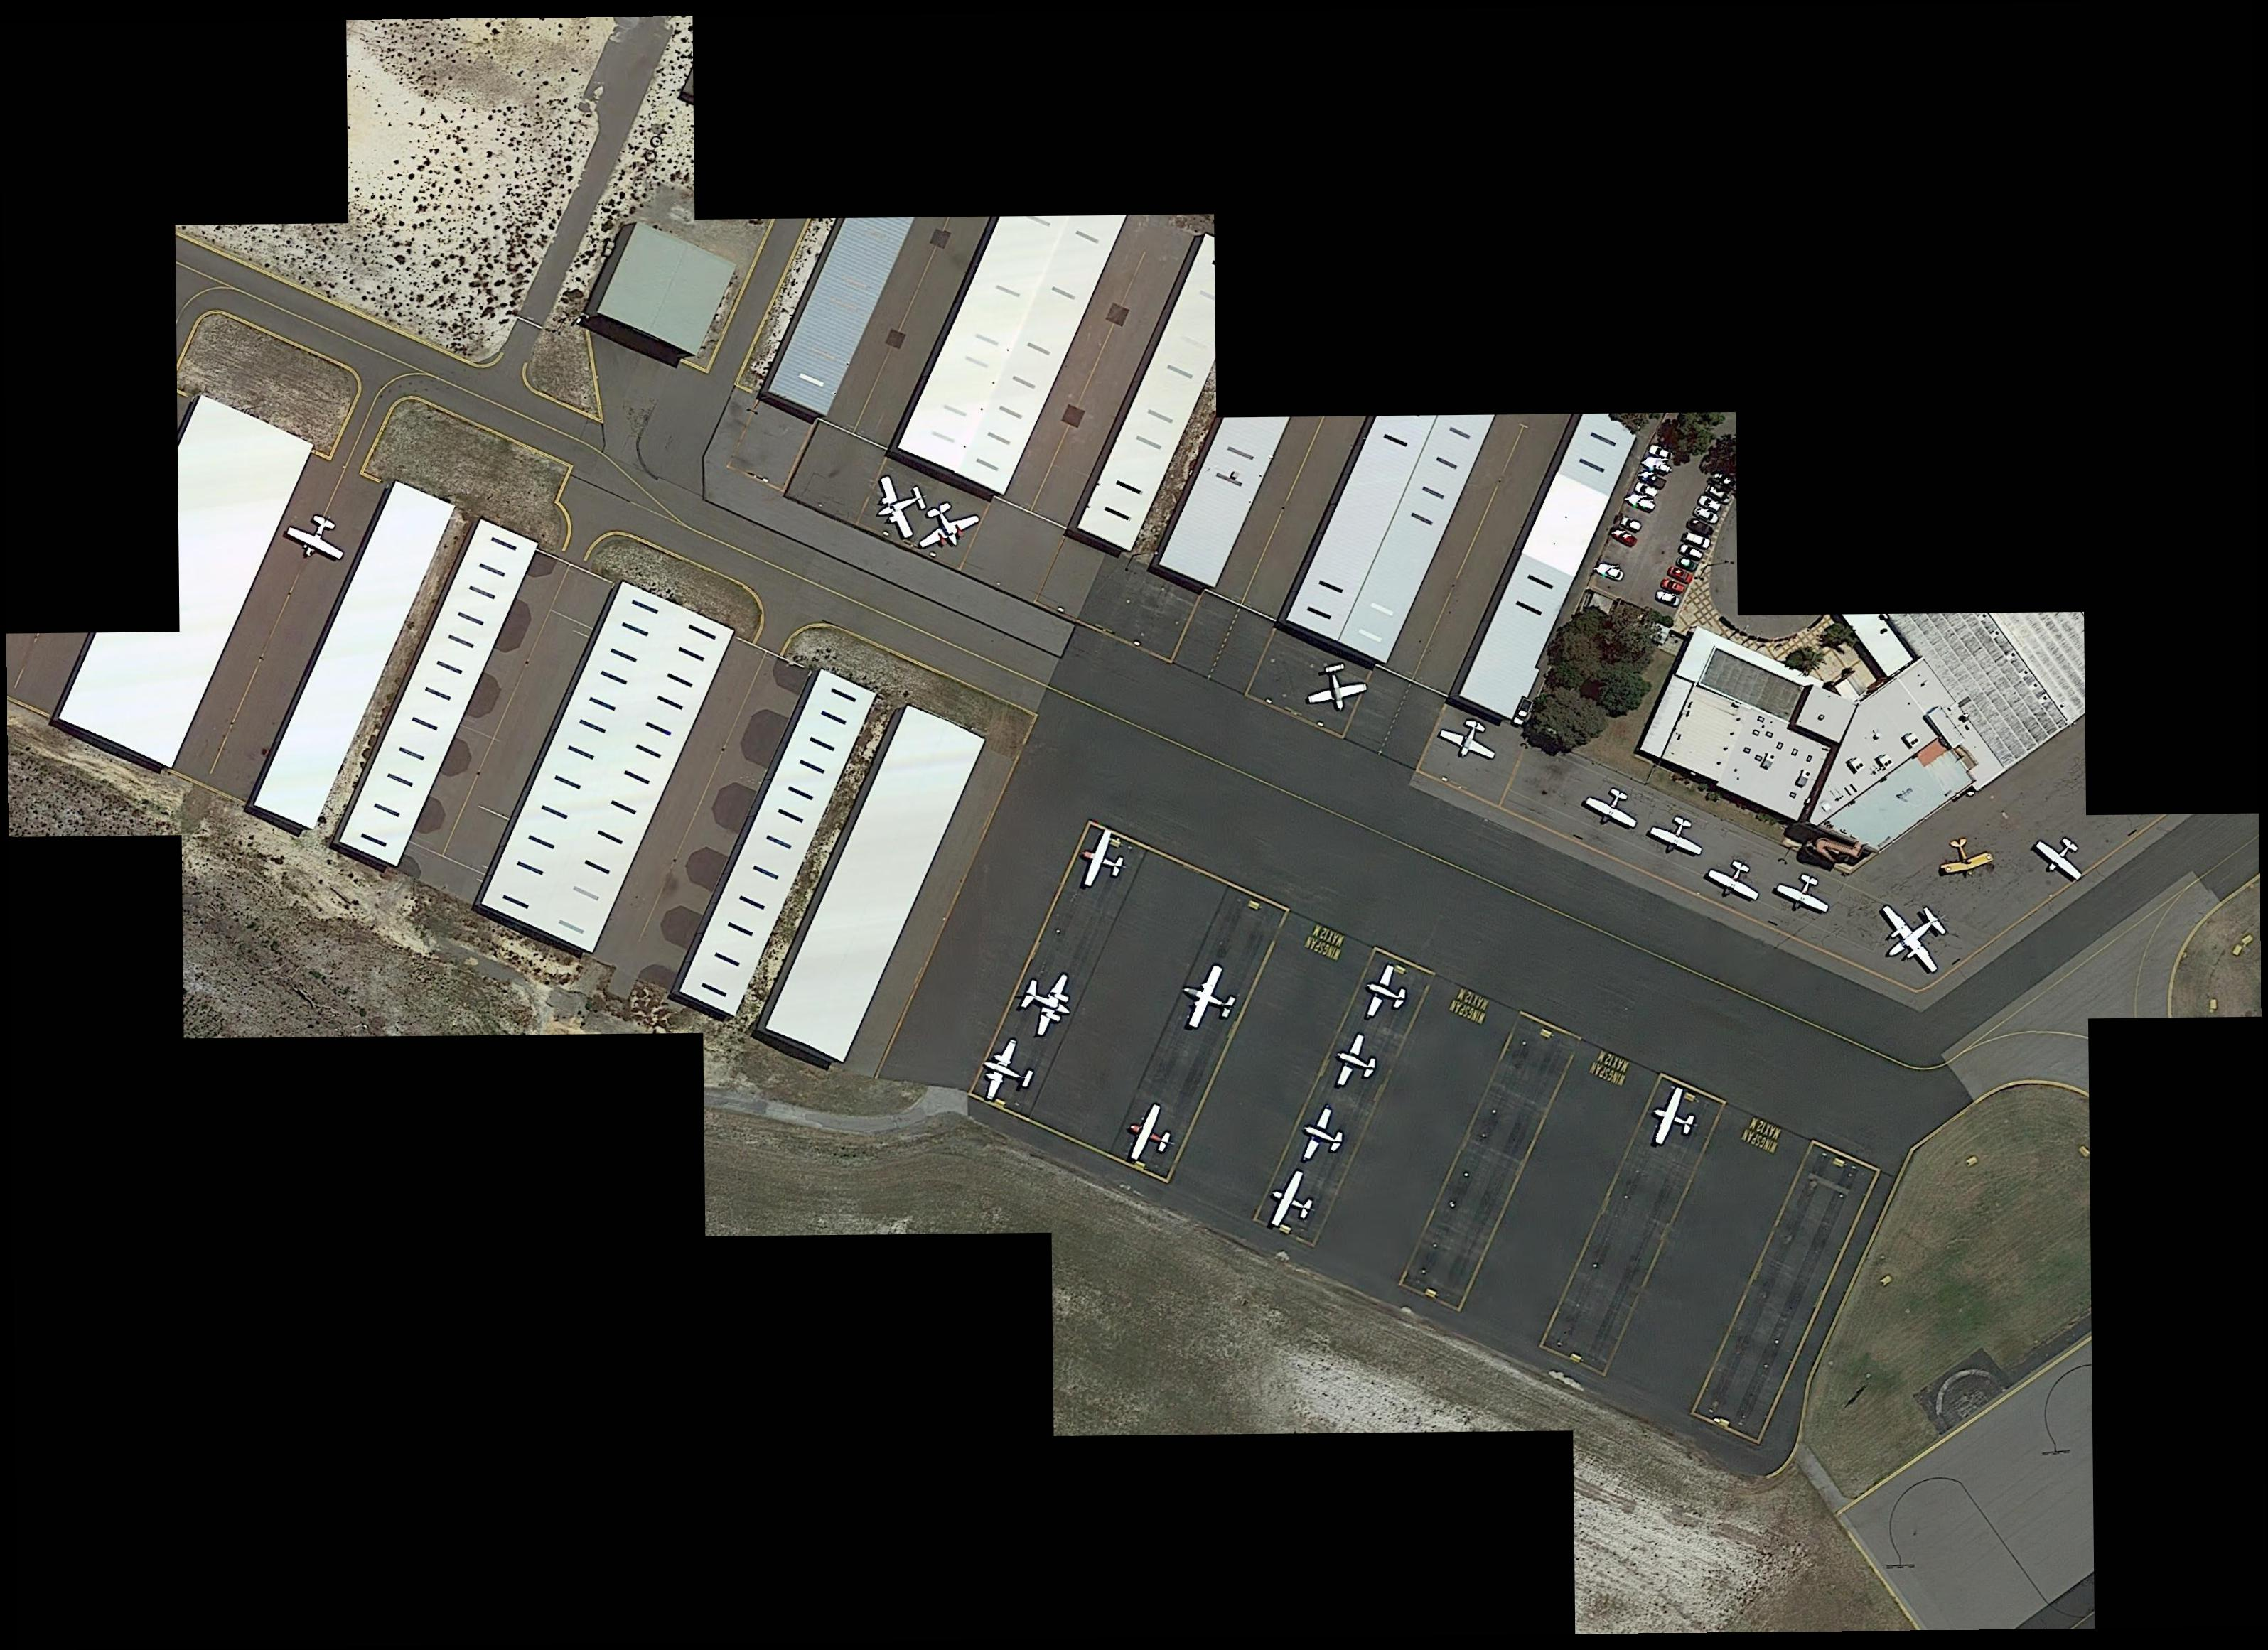plane: (1863, 888, 1962, 986), (970, 1032, 1044, 1113), (1173, 954, 1245, 1035), (1011, 961, 1081, 1042), (910, 493, 984, 562), (870, 468, 935, 546), (1118, 1097, 1183, 1175), (1261, 1166, 1326, 1240), (280, 507, 356, 571), (1071, 824, 1132, 898), (1292, 1102, 1354, 1171), (1435, 711, 1506, 771), (1301, 659, 1370, 718), (2029, 828, 2095, 888), (1324, 1030, 1381, 1094), (1645, 1086, 1697, 1150), (1703, 856, 1766, 909), (1646, 812, 1710, 865), (1358, 961, 1410, 1025), (1581, 784, 1641, 836), (1775, 870, 1833, 923), (1937, 833, 1995, 882)
